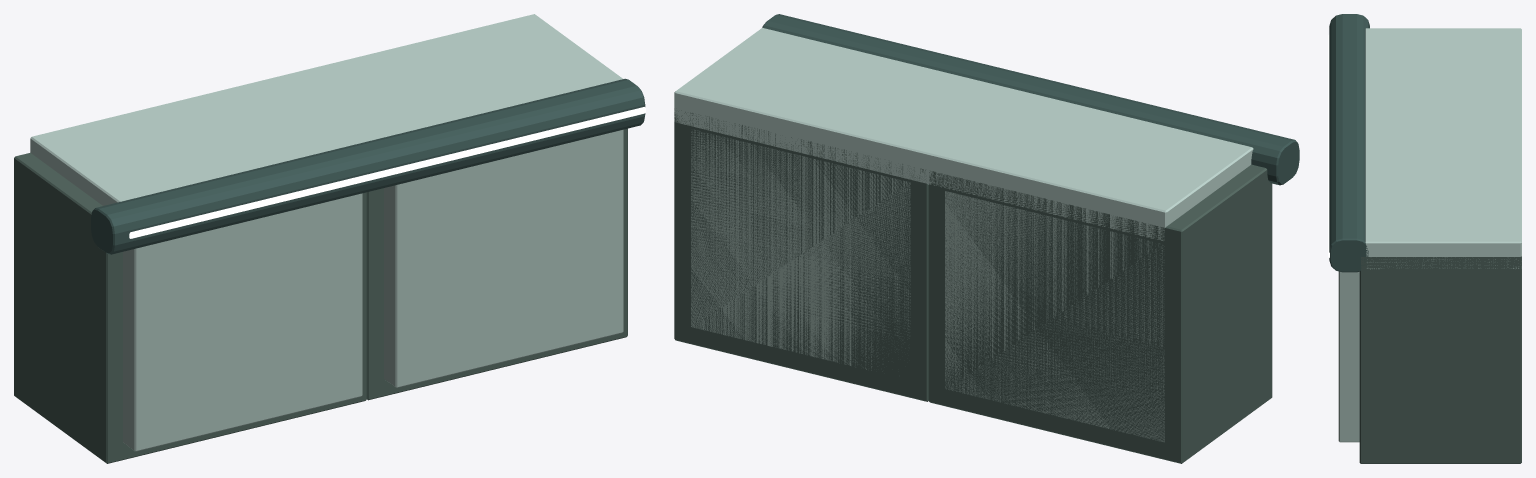
Rendered from Terrain_TopRun2L.gltf.
3 views of the same model, side by side, from view 1: azimuth 30°, elevation 25°; view 2: azimuth 150°, elevation 25°; view 3: azimuth 270°, elevation 25° (orthographic). The views are drawn at different scales.
Parts seen in each view (by area): view 1: Terrain_TopRun2L_baked; view 2: Terrain_TopRun2L_baked; view 3: Terrain_TopRun2L_baked.
Part boxes in pixels (left/top/right/bottom): Terrain_TopRun2L_baked: left=14, top=14, right=645, bottom=463; Terrain_TopRun2L_baked: left=674, top=14, right=1299, bottom=463; Terrain_TopRun2L_baked: left=1328, top=14, right=1521, bottom=463.
Bounding box in the file's own units: 2.04 × 0.9495 × 0.74.
